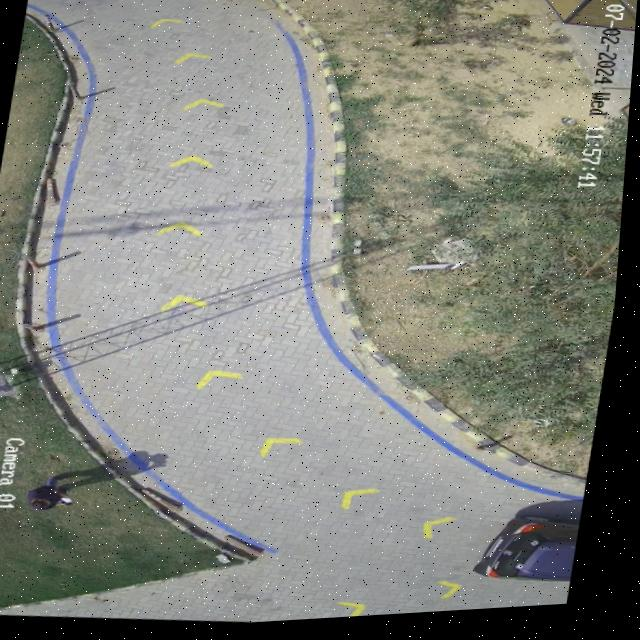car: (484, 522, 587, 588)
